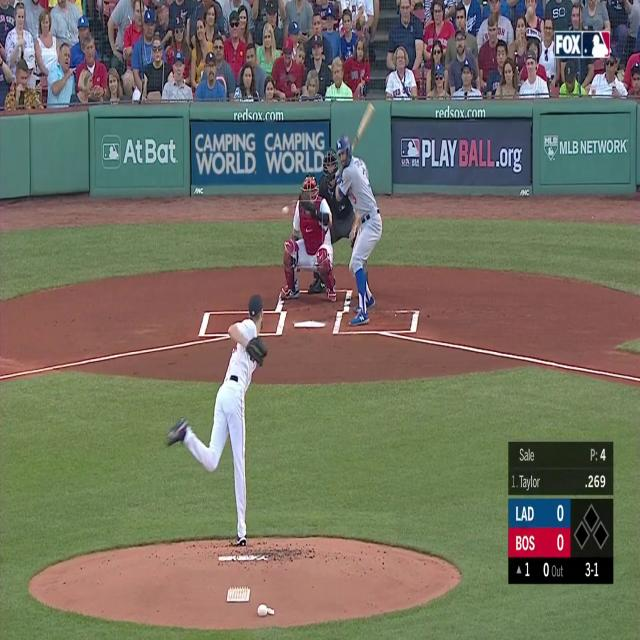baseball: (282, 206, 289, 216)
